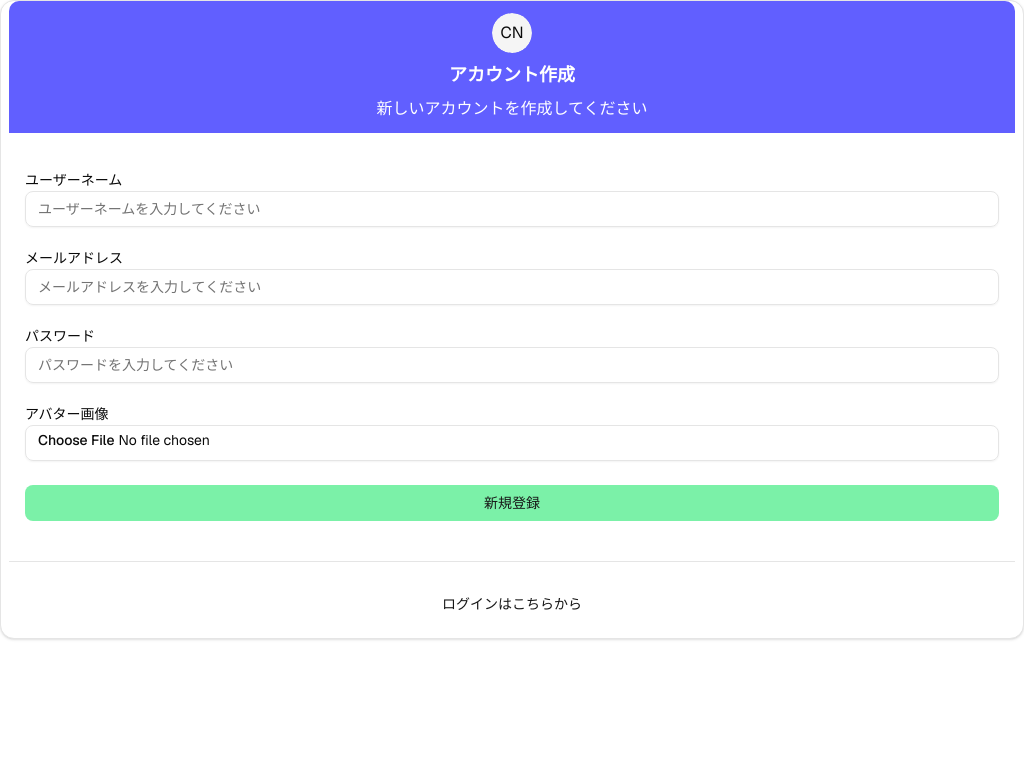
it: AuthForm › サインアップを空で送信を試みる
The width and height of the screenshot is (1024, 768).
Click the button "新規登録" at point(512, 503), box [25, 485, 999, 521]
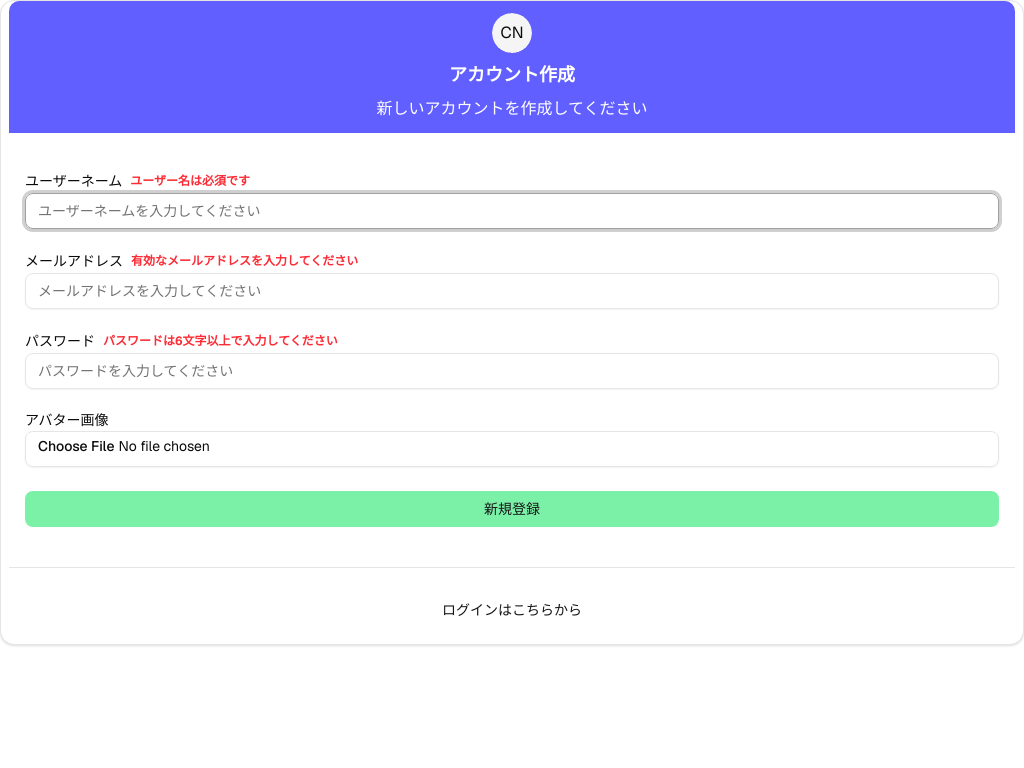
Check: the text "ユーザー名は必須です" is shown, box [130, 173, 250, 189]
Check: the text "有効なメールアドレスを入力してください" is shown, box [131, 253, 358, 269]
Check: the text "パスワードは6文字以上で入力してください" is shown, box [103, 333, 338, 349]
